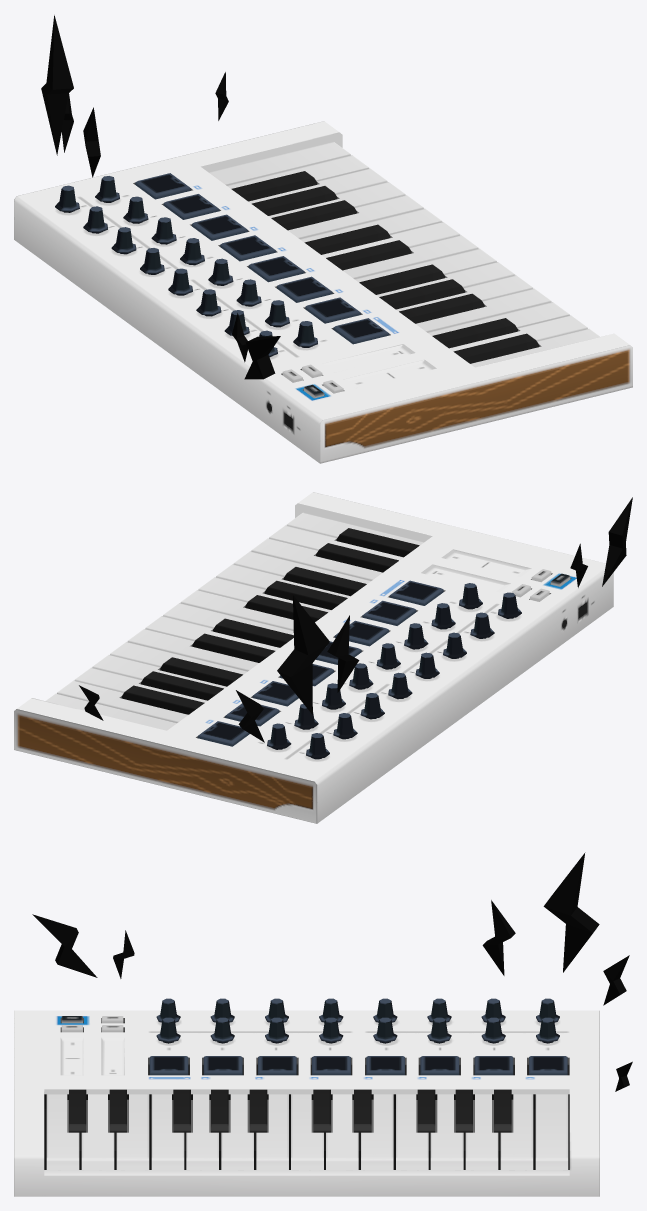
File: midi_03_exp.fbx
3 views of the same model, one above another, from view 1: azimuth 30°, elevation 25°; view 2: azimuth 150°, elevation 25°; view 3: azimuth 270°, elevation 25° (orthographic). The views are drawn at different scales.
Parts seen in each view (by area): view 1: midi, lt; view 2: midi, lt; view 3: midi, lt.
Part boxes in pixels (x1,y1,x2,y2): midi: (14, 121, 632, 463); lt: (41, 15, 280, 379); midi: (14, 492, 613, 823); lt: (79, 497, 632, 742); midi: (14, 998, 599, 1196); lt: (32, 852, 632, 1091).
Size of the model in its own units: 195 by 121 by 308.
